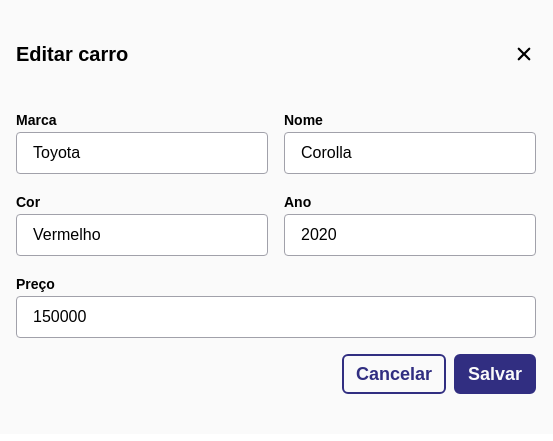
Scenario: EditCarModal › shows validation errors on invalid input
The image size is (553, 441).
Replace the text in the field with test id "brand-input" with "aaa" at (142, 153), box [16,132,268,174]
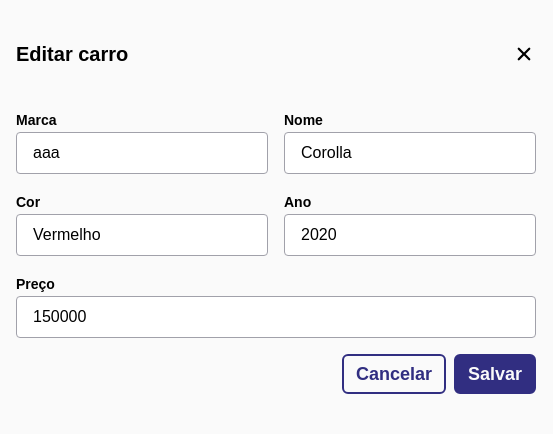
Replace the text in the field with test id "name-input" with "aa" at (410, 153), box [284,132,536,174]
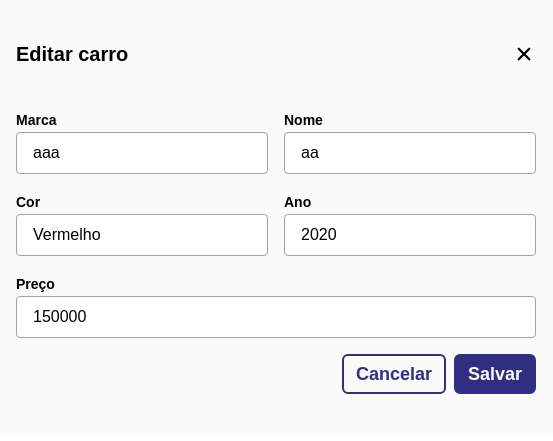
Replace the text in the field with test id "color-input" with "a" at (142, 235), box [16,214,268,256]
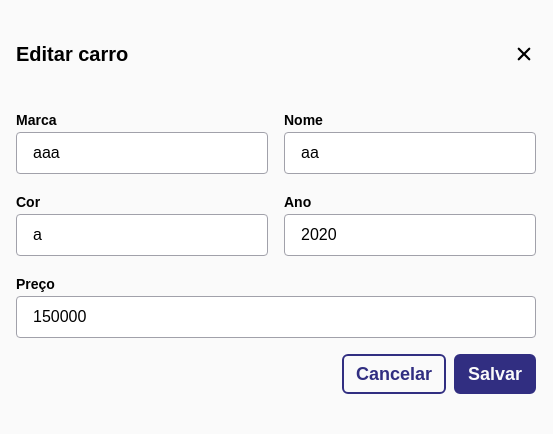
Replace the text in the number field with test id "price-input" with "500" at (276, 317), box [16,296,536,338]
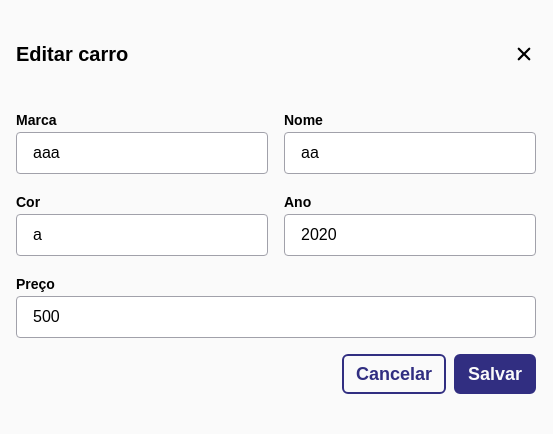
Click the button "Salvar" at (495, 374), box [454,354,536,394]
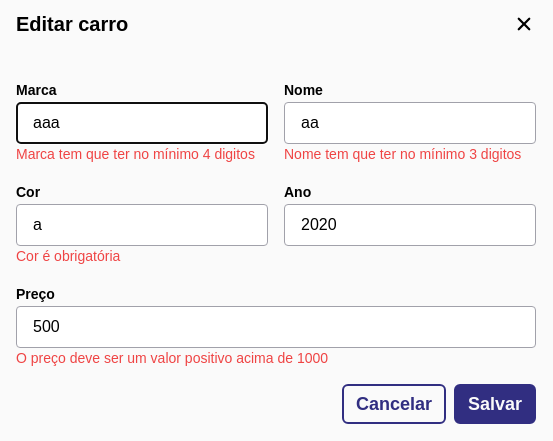
Now the text "Marca tem que ter no mínimo 4 digitos" is shown, box [16,144,268,164]
Now the text "Nome tem que ter no mínimo 3 digitos" is shown, box [284,144,536,164]
Now the text "O preço deve ser um valor positivo acima de 1000" is shown, box [16,350,328,366]
